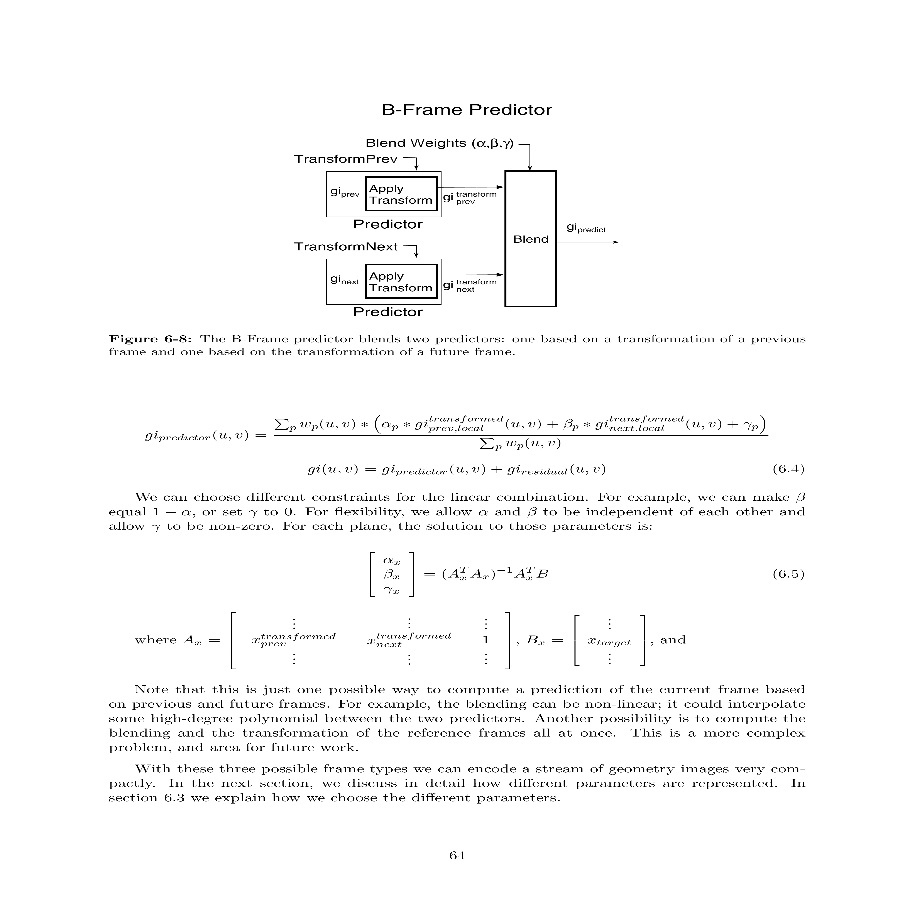eq: (183, 610, 650, 675), (137, 410, 775, 453), (366, 548, 551, 601), (298, 459, 610, 480)
